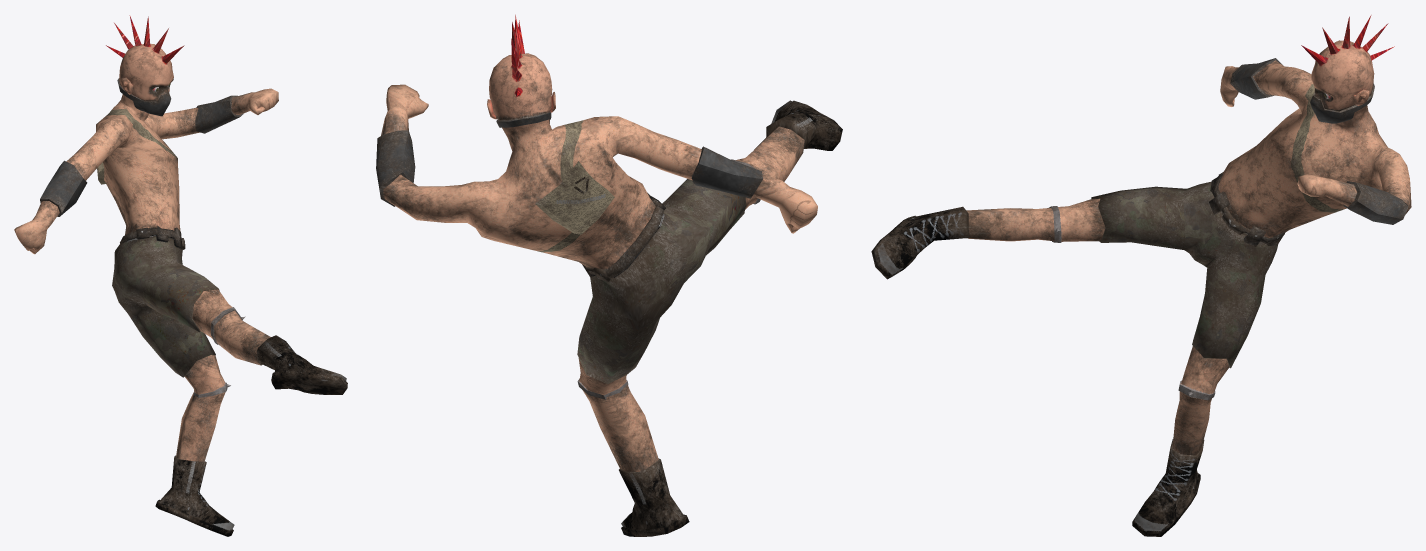
File: Anim_ataque_f1_npc2.0018.obj
3 renders of one model, left to right at view 1: azimuth 30°, elevation 25°; view 2: azimuth 150°, elevation 25°; view 3: azimuth 270°, elevation 25°, orthographic. The views are drawn at different scales.
Visible parts, largest first — view 1: polySurface1; view 2: polySurface1; view 3: polySurface1.
Part boxes in pixels (box(x1,y1,x2,y2)): polySurface1: box(14, 15, 347, 536); polySurface1: box(376, 14, 842, 536); polySurface1: box(871, 15, 1411, 536).
Bounding box in the file's own units: 6.46 × 9.45 × 8.82.
